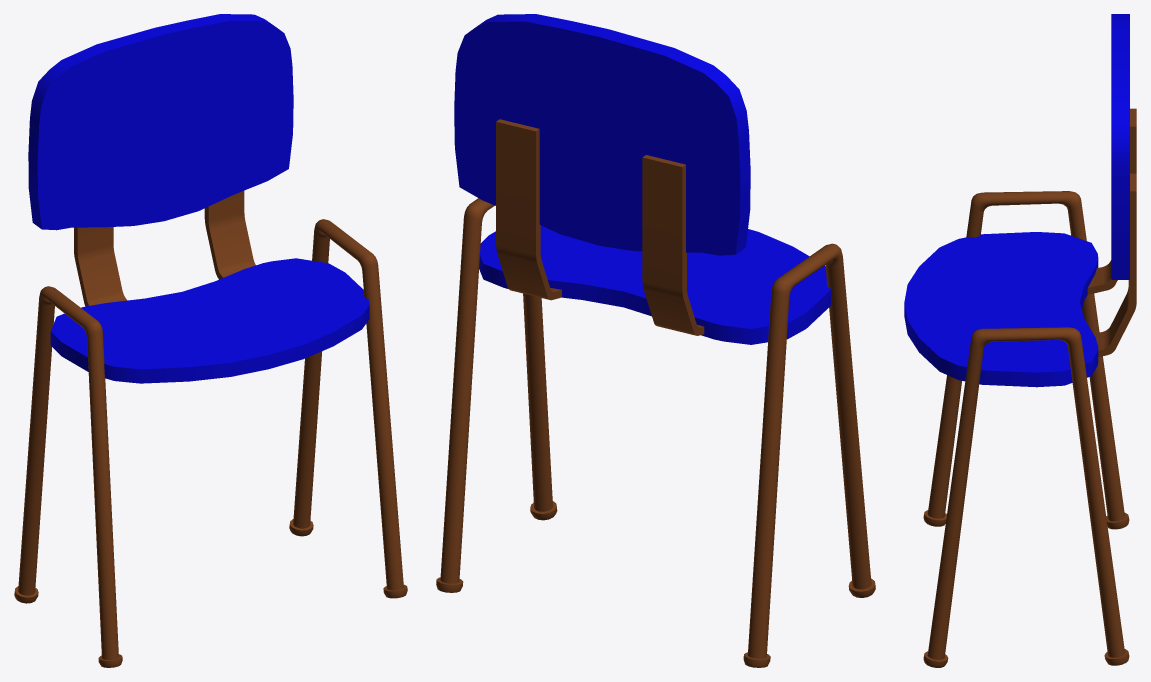
The model's file is Silla.fbx.
3 views of the same model, side by side, from view 1: azimuth 30°, elevation 25°; view 2: azimuth 150°, elevation 25°; view 3: azimuth 270°, elevation 25° (orthographic). The views are drawn at different scales.
Visible parts, largest first — view 1: Cube.005; view 2: Cube.005; view 3: Cube.005.
Part boxes in pixels (x1=…): Cube.005: x1=14, y1=14, x2=407, y2=667; Cube.005: x1=436, y1=14, x2=875, y2=667; Cube.005: x1=904, y1=14, x2=1136, y2=667.
Size of the model in its own units: 78.81 by 132 by 51.04.
